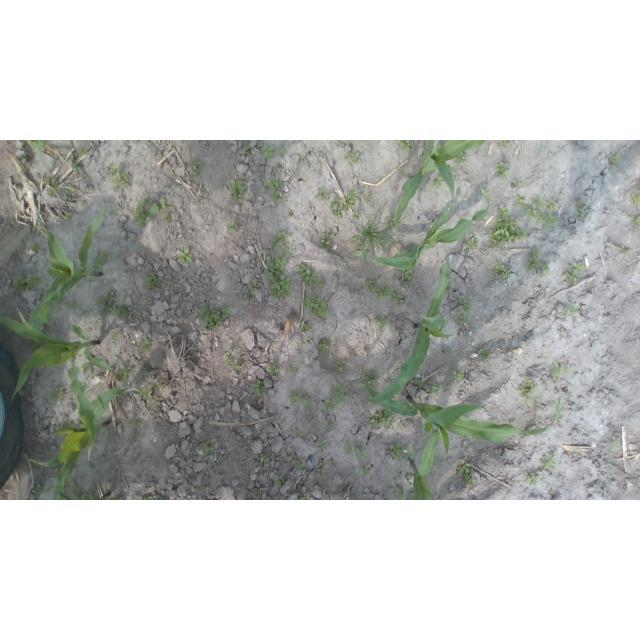Maize: (0, 309, 114, 460), (360, 380, 561, 454), (367, 247, 454, 405), (32, 386, 149, 500), (30, 208, 123, 333), (367, 184, 491, 272), (394, 141, 487, 228), (404, 430, 445, 500), (37, 141, 99, 172), (57, 491, 112, 500)
Weeds: (354, 221, 394, 255), (489, 205, 520, 248), (265, 254, 292, 298), (298, 292, 328, 316), (206, 304, 230, 331), (131, 198, 152, 228), (369, 406, 394, 428), (97, 291, 118, 316), (454, 298, 474, 324), (459, 459, 478, 485), (297, 263, 318, 286), (517, 376, 539, 397), (229, 180, 247, 205), (342, 188, 360, 212), (537, 211, 560, 229), (492, 260, 513, 279), (330, 381, 348, 403), (527, 247, 542, 273), (144, 273, 164, 291), (329, 197, 344, 220), (116, 303, 133, 322), (63, 480, 83, 496), (141, 384, 157, 404), (391, 287, 406, 308), (540, 453, 557, 471), (522, 205, 540, 222), (26, 272, 45, 288), (389, 444, 405, 463), (251, 380, 268, 397), (111, 172, 129, 188), (605, 151, 624, 166), (262, 176, 282, 190), (177, 248, 193, 265), (495, 161, 510, 179), (44, 177, 57, 197), (150, 198, 166, 214), (118, 364, 132, 382), (562, 303, 579, 317), (49, 388, 63, 405), (353, 443, 367, 460), (373, 313, 387, 330), (27, 242, 45, 255), (32, 484, 50, 497), (395, 140, 414, 152), (531, 195, 546, 210), (11, 276, 25, 292), (393, 484, 407, 500), (373, 284, 389, 298), (225, 358, 242, 371), (401, 270, 414, 287), (269, 191, 287, 203), (565, 271, 580, 285), (261, 145, 275, 160), (270, 231, 289, 242), (524, 472, 540, 485), (551, 363, 564, 379), (195, 304, 207, 321), (426, 382, 443, 394), (568, 261, 582, 275), (138, 337, 152, 351), (302, 394, 315, 409), (315, 188, 330, 201), (290, 391, 303, 405), (454, 151, 468, 164), (279, 241, 291, 256), (227, 219, 239, 234), (451, 367, 463, 382), (190, 158, 205, 170), (344, 152, 359, 164), (432, 174, 444, 189), (540, 262, 551, 278), (466, 238, 479, 251), (608, 436, 621, 449), (576, 206, 589, 219), (315, 439, 328, 452), (201, 441, 215, 453), (353, 250, 368, 261), (62, 188, 74, 201), (325, 398, 337, 411), (631, 189, 640, 206), (249, 278, 260, 291), (369, 372, 380, 385), (269, 363, 280, 376), (479, 347, 492, 358), (520, 397, 534, 407), (365, 280, 377, 291), (319, 341, 331, 352), (385, 214, 396, 226), (546, 200, 558, 211), (321, 229, 334, 239), (320, 240, 333, 250), (513, 195, 523, 208), (318, 277, 327, 291), (344, 440, 353, 454), (47, 268, 59, 278), (83, 362, 93, 374), (359, 465, 371, 475), (26, 140, 39, 149), (361, 380, 372, 390), (631, 215, 640, 227), (316, 470, 328, 479), (338, 360, 347, 372), (56, 422, 73, 428), (109, 165, 119, 175), (514, 180, 525, 189), (278, 146, 286, 158), (294, 429, 306, 437), (290, 362, 298, 374), (101, 251, 111, 260), (295, 458, 304, 468), (33, 339, 44, 347), (190, 172, 201, 180), (520, 229, 528, 240), (22, 443, 31, 452), (242, 289, 250, 299), (164, 211, 172, 221), (274, 476, 282, 486), (327, 422, 335, 432), (352, 210, 360, 220), (299, 493, 310, 500), (64, 214, 73, 222), (67, 301, 76, 309), (200, 483, 208, 492), (260, 454, 269, 462), (358, 367, 366, 376), (364, 193, 372, 202), (244, 145, 251, 155), (226, 345, 232, 356), (319, 460, 327, 468), (415, 378, 423, 386), (349, 236, 357, 244), (574, 199, 583, 206), (77, 149, 86, 156), (132, 421, 141, 428), (301, 325, 310, 332), (489, 419, 497, 426), (564, 364, 571, 372), (300, 154, 307, 162), (540, 143, 545, 154), (398, 473, 405, 480), (129, 434, 135, 442), (18, 154, 26, 160), (142, 496, 154, 500), (508, 421, 516, 427), (502, 140, 510, 146), (558, 412, 563, 421), (111, 333, 117, 340), (92, 486, 99, 492), (269, 245, 275, 251), (359, 284, 364, 291), (19, 141, 26, 146), (625, 250, 631, 255), (288, 210, 293, 216), (94, 321, 99, 326), (154, 466, 159, 471), (301, 340, 306, 345), (275, 497, 283, 500), (160, 496, 165, 500), (112, 376, 116, 381), (550, 490, 555, 494), (251, 254, 255, 258), (115, 204, 119, 208), (330, 461, 335, 464), (379, 177, 382, 180)
